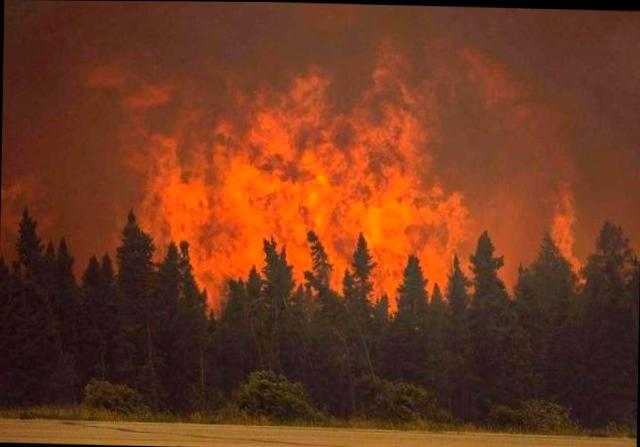fire: (138, 51, 496, 310), (546, 187, 590, 286)
